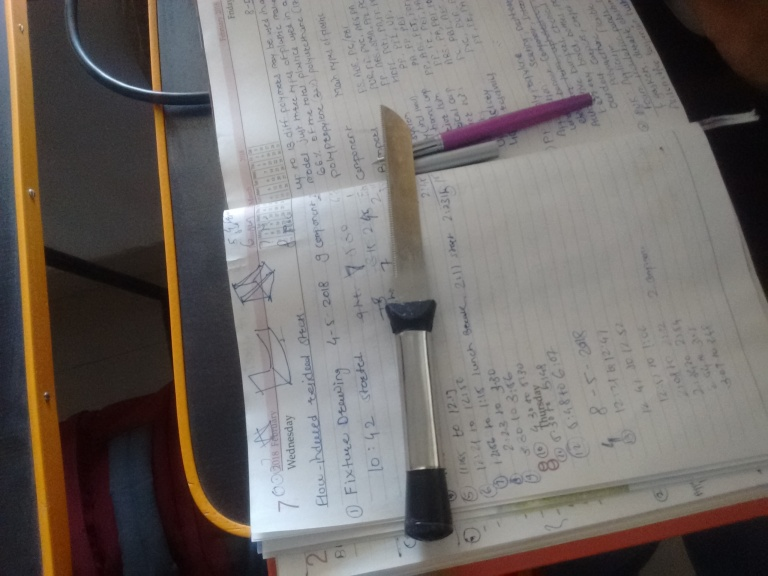knife: (375, 101, 455, 544)
